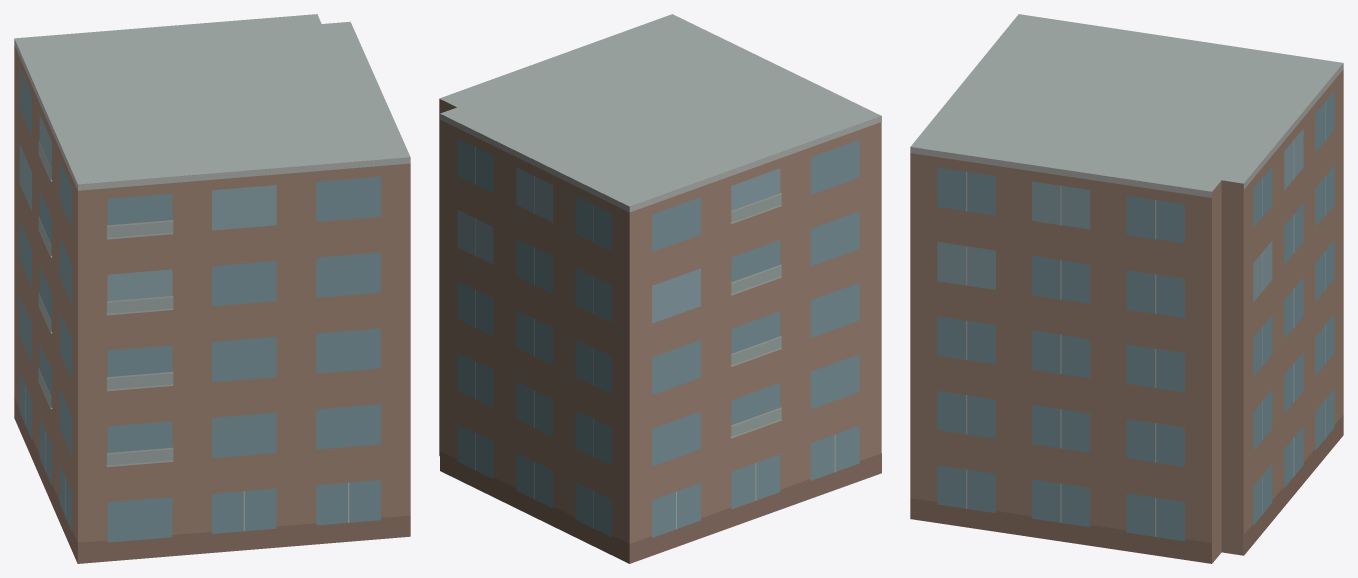
The model's file is survey-upis-32854255.glb.
3 renders of one model, left to right at view 1: azimuth 30°, elevation 25°; view 2: azimuth 150°, elevation 25°; view 3: azimuth 270°, elevation 25°, orthographic. The views are drawn at different scales.
Visible parts, largest first — view 1: survey-upis-32854255.tmp; view 2: survey-upis-32854255.tmp; view 3: survey-upis-32854255.tmp.
Boxes of the visible parts, <box> form: survey-upis-32854255.tmp: <box>14,14,410,563</box>; survey-upis-32854255.tmp: <box>439,14,881,563</box>; survey-upis-32854255.tmp: <box>910,14,1343,563</box>.
Bounding box in the file's own units: 15.07 × 14.7 × 15.52.
